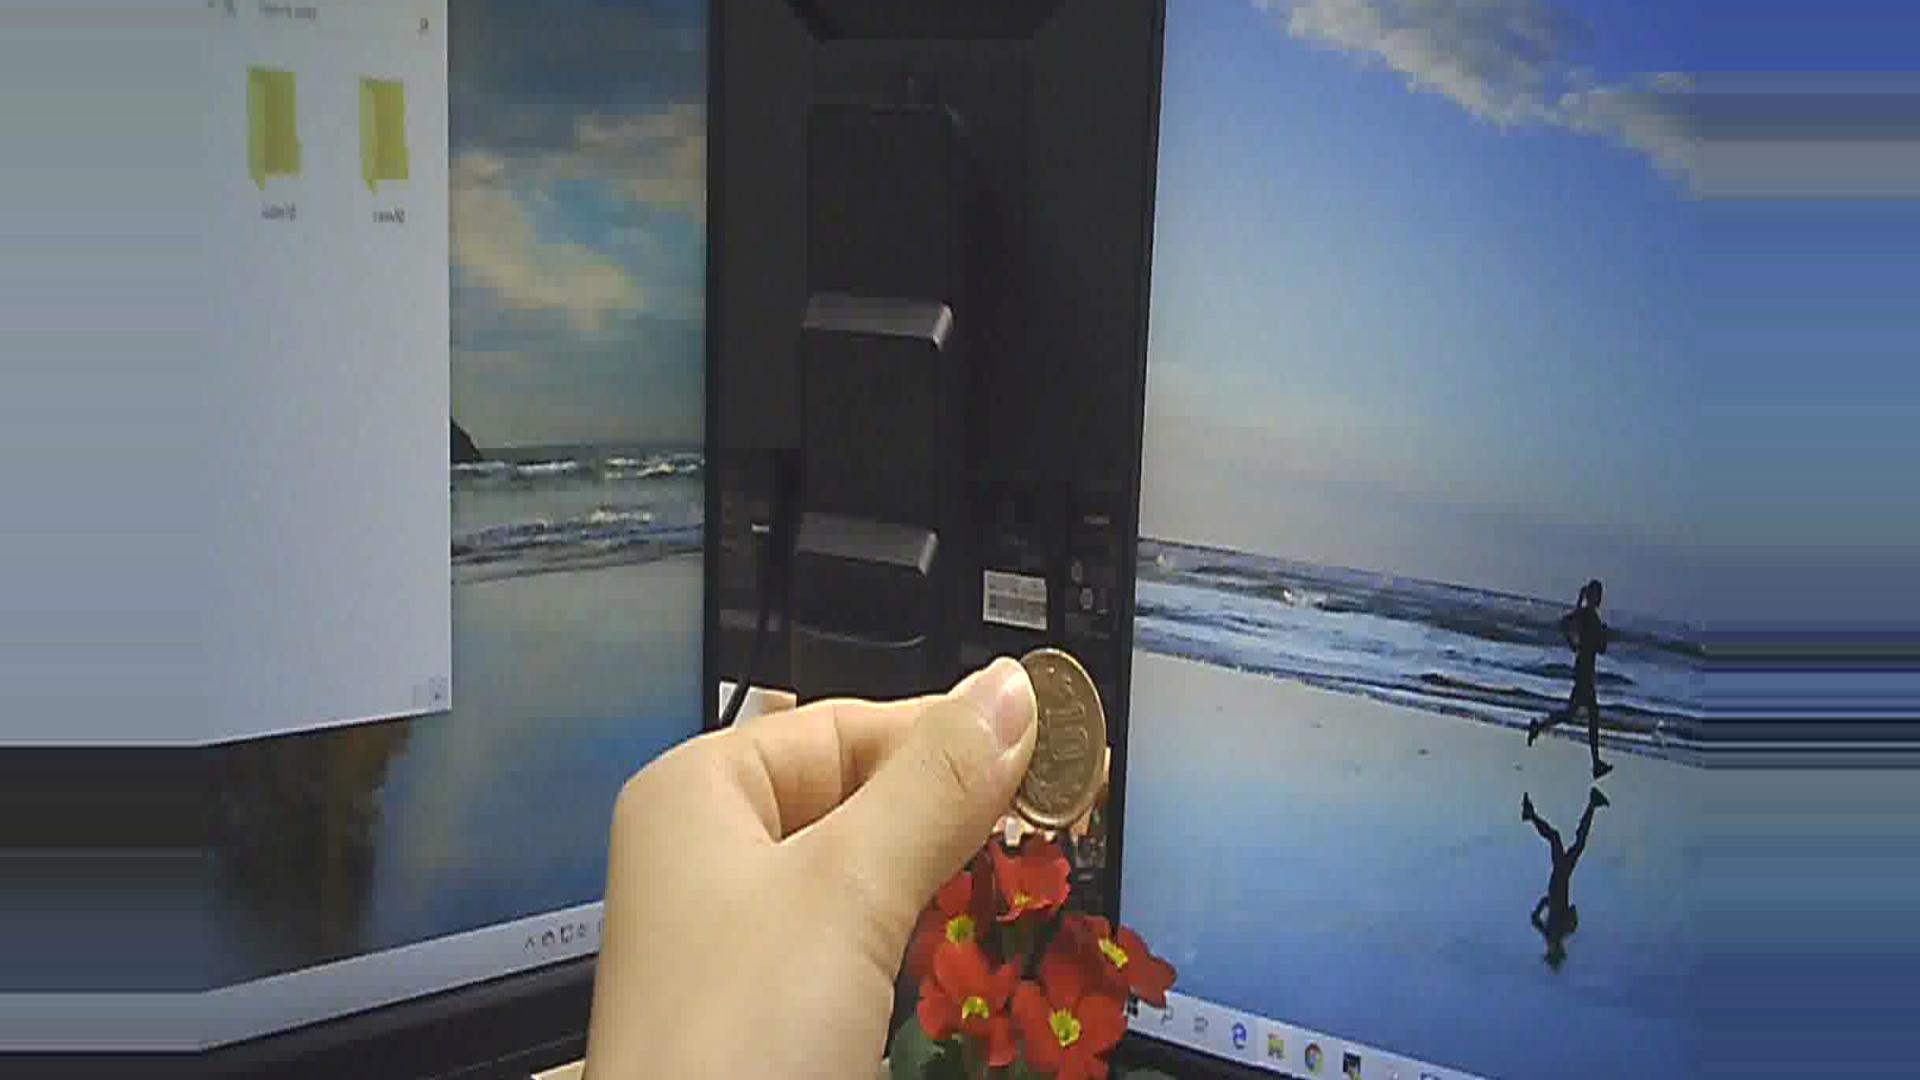10 Yen: (986, 646, 1120, 820)
